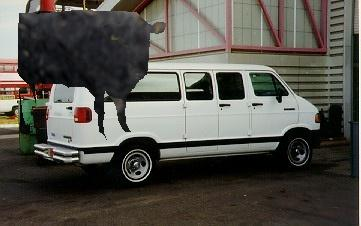tampered: (18, 11, 166, 141)
